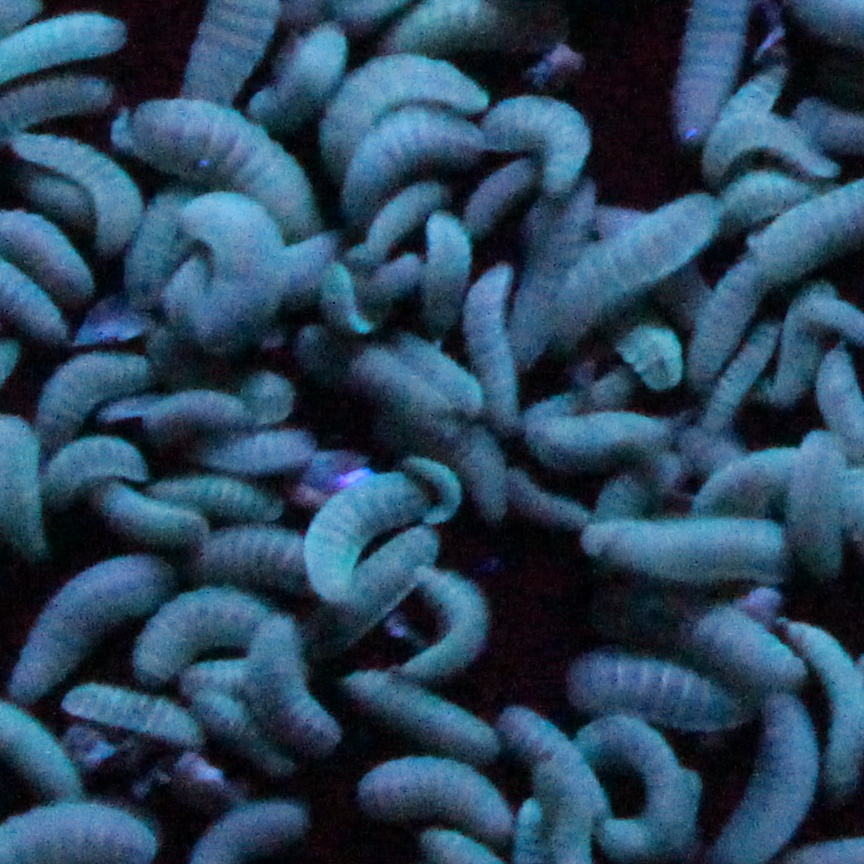larve: (132, 98, 335, 233), (549, 193, 720, 345), (16, 557, 177, 702), (580, 507, 809, 595), (325, 57, 487, 179), (573, 720, 694, 860), (185, 196, 289, 350), (342, 112, 485, 222), (244, 607, 347, 752), (344, 667, 504, 760), (308, 471, 423, 596), (571, 657, 754, 734), (139, 590, 270, 688), (358, 760, 518, 840), (501, 700, 605, 819), (480, 91, 601, 190), (466, 258, 523, 440), (409, 565, 490, 679), (59, 693, 209, 748), (101, 479, 211, 550), (706, 321, 780, 424), (530, 412, 675, 462), (366, 179, 454, 257), (39, 438, 159, 488), (152, 477, 292, 519), (144, 391, 249, 434)
